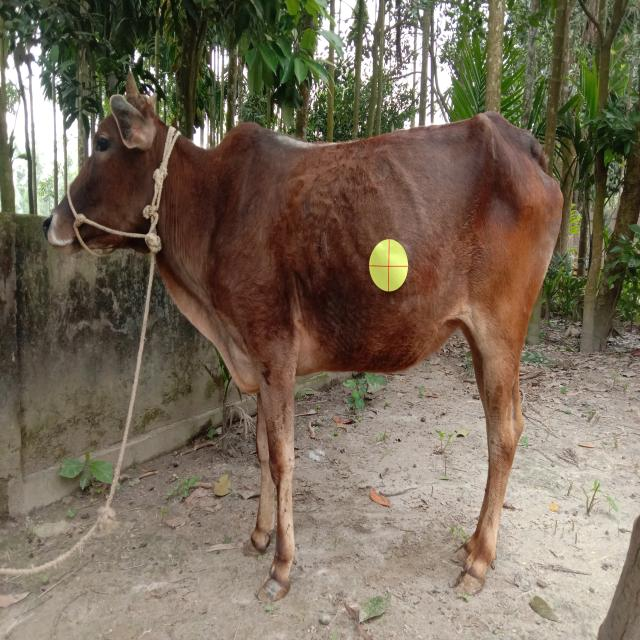badan_sapi: (226, 144, 563, 378)
sapi: (41, 56, 575, 617)
